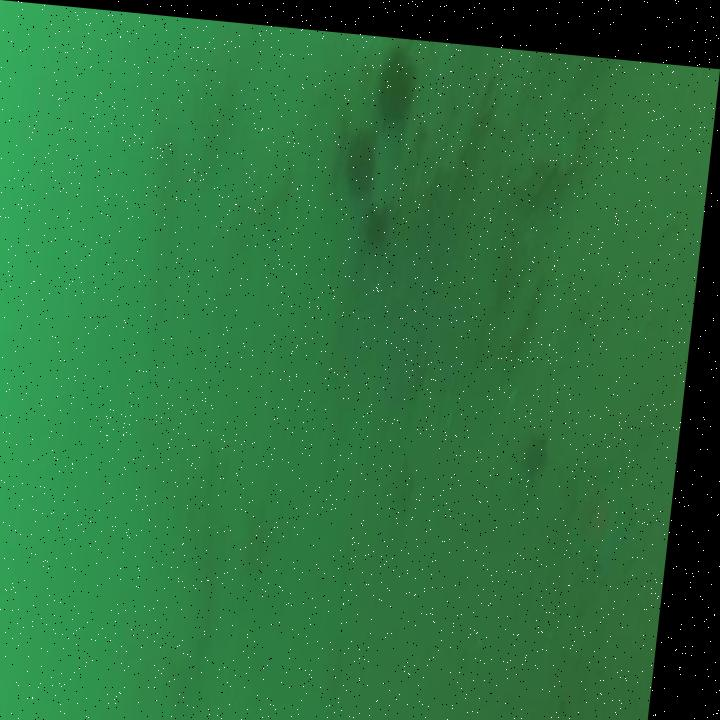echinus: (367, 30, 426, 128), (336, 105, 388, 206)
holothurian: (511, 252, 551, 349)
